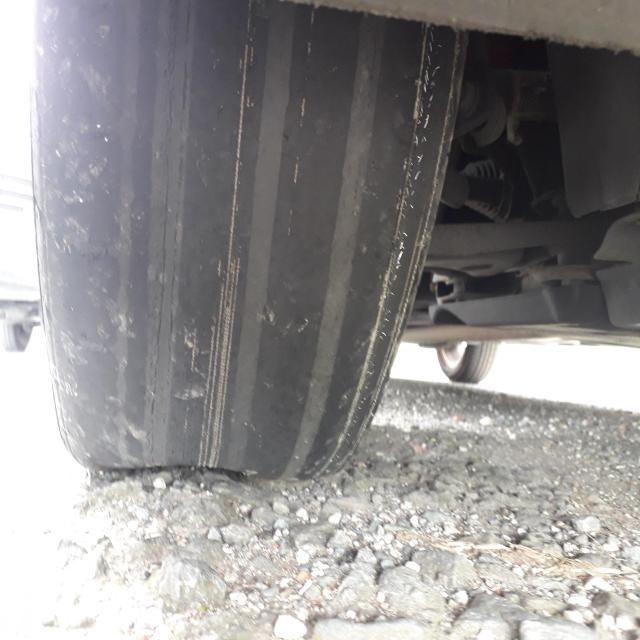Flat spots: (70, 0, 372, 440)
